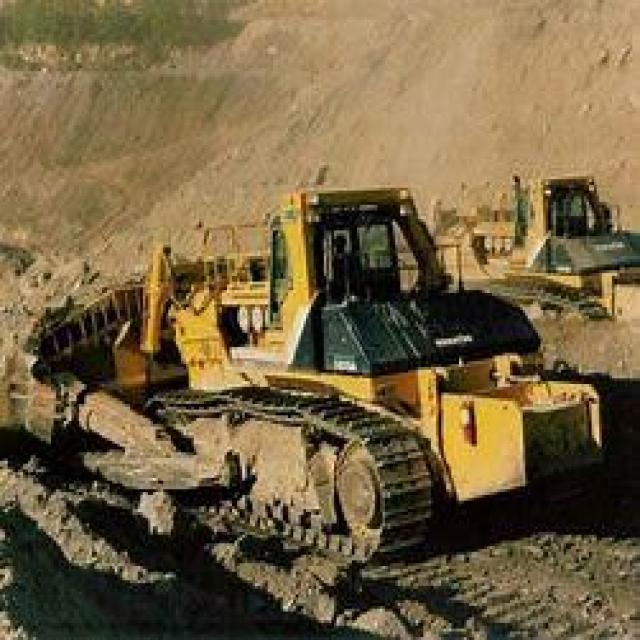Bulldozer: (18, 170, 620, 574)
